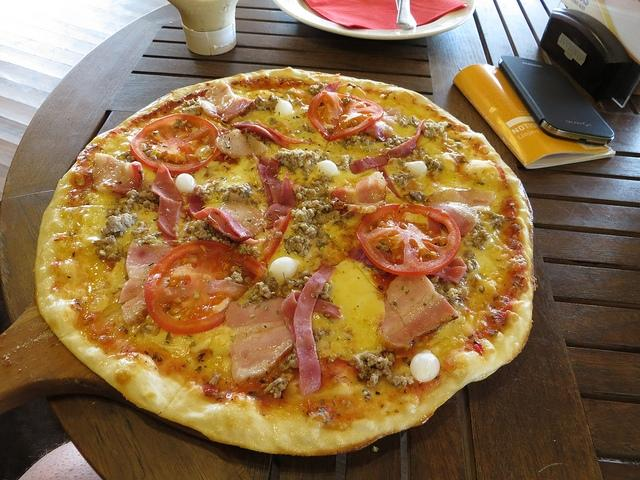tomato: (144, 240, 266, 334), (356, 204, 461, 276), (130, 114, 220, 173), (307, 90, 384, 142)
